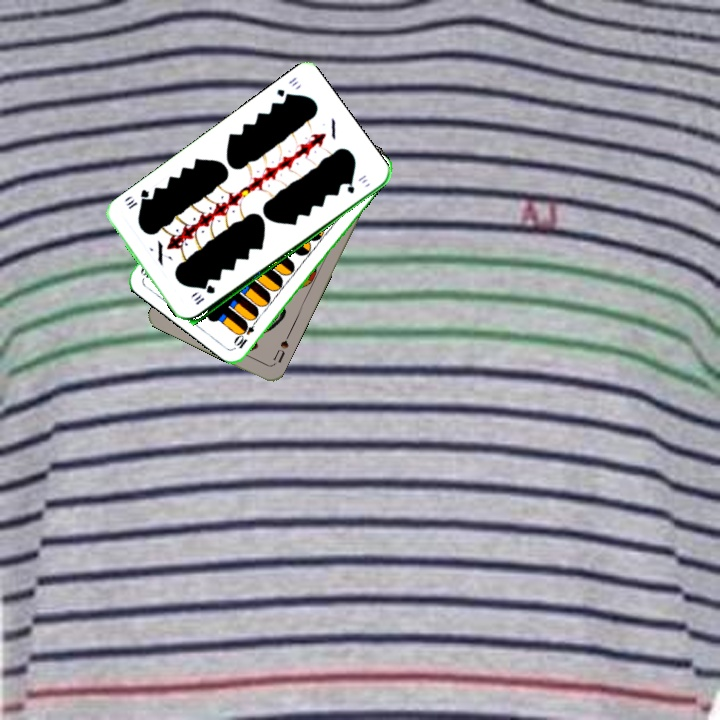E10: (232, 314, 261, 351)
G10: (273, 73, 300, 103), (190, 282, 218, 308)
SU: (269, 330, 292, 368)
